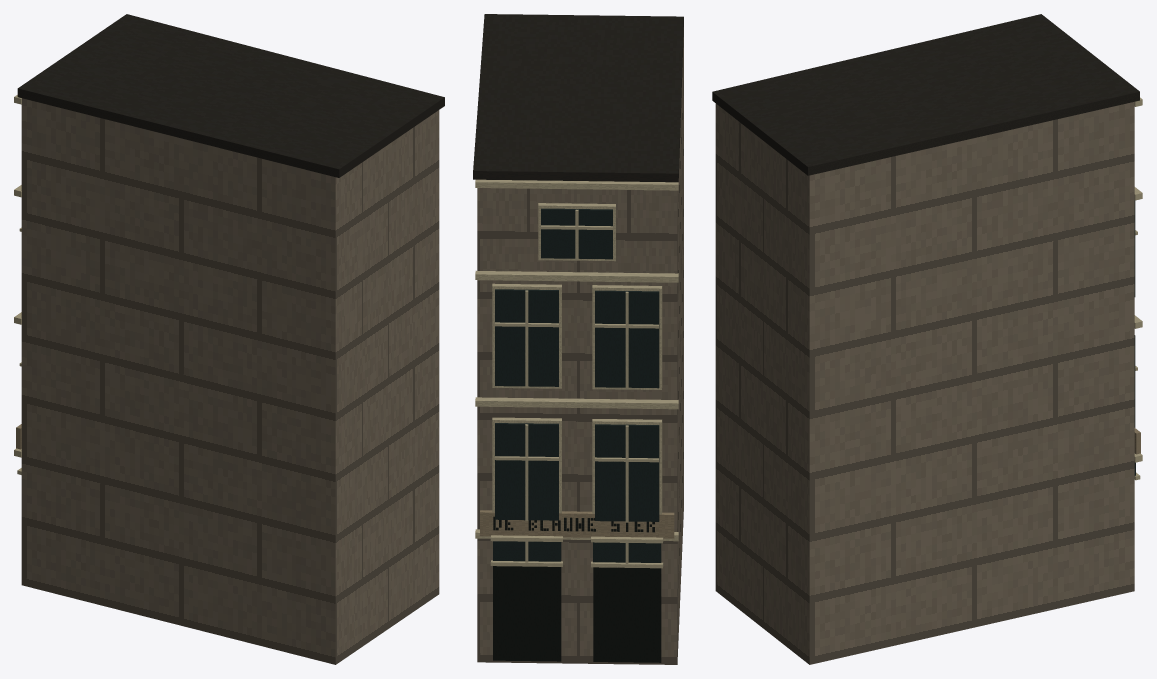
3 renders of one model, left to right at view 1: azimuth 30°, elevation 25°; view 2: azimuth 150°, elevation 25°; view 3: azimuth 270°, elevation 25°, orthographic.
Visible parts, largest first — view 1: haringvliet44-blauwe-ster-0, haringvliet44-blauwe-ster-1; view 2: haringvliet44-blauwe-ster-0, haringvliet44-blauwe-ster-1, haringvliet44-blauwe-ster-3, haringvliet44-blauwe-ster-2, haringvliet44-blauwe-ster-4, haringvliet44-blauwe-ster-5; view 3: haringvliet44-blauwe-ster-0, haringvliet44-blauwe-ster-1.
Boxes of the visible parts, box(x1,y1,x2,y2) form: haringvliet44-blauwe-ster-0: box(21, 98, 439, 664); haringvliet44-blauwe-ster-1: box(17, 14, 444, 177); haringvliet44-blauwe-ster-0: box(477, 27, 683, 664); haringvliet44-blauwe-ster-1: box(473, 14, 683, 182); haringvliet44-blauwe-ster-3: box(493, 208, 661, 562); haringvliet44-blauwe-ster-2: box(475, 179, 678, 568); haringvliet44-blauwe-ster-4: box(493, 516, 661, 662); haringvliet44-blauwe-ster-5: box(480, 510, 674, 538); haringvliet44-blauwe-ster-0: box(715, 102, 1134, 664); haringvliet44-blauwe-ster-1: box(712, 14, 1139, 175).
Bounding box in the file's own units: 9 × 13.64 × 10.64.
Materials: 6 (6 with a texture image).
